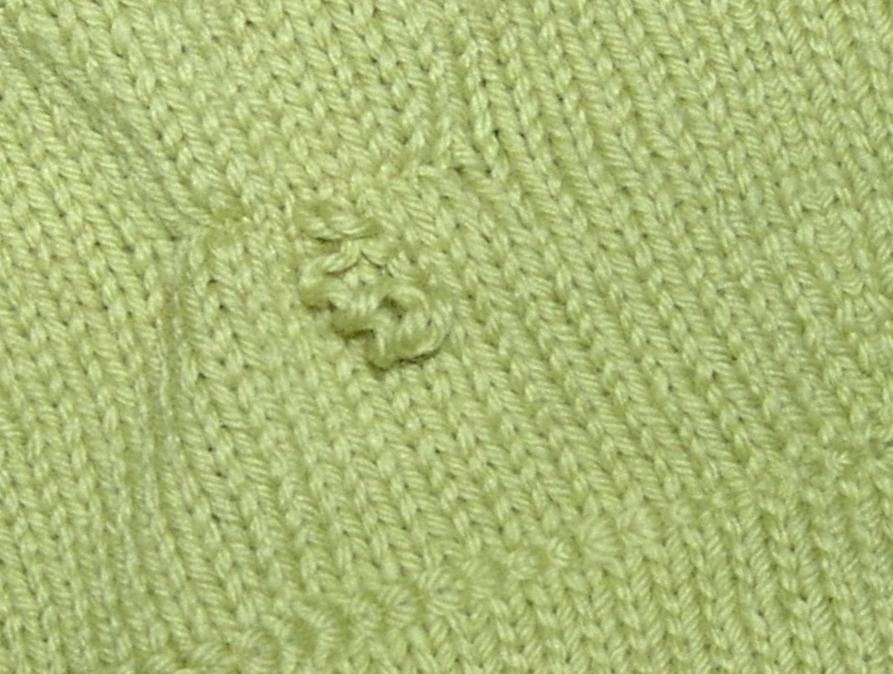knot: (297, 209, 456, 388)
